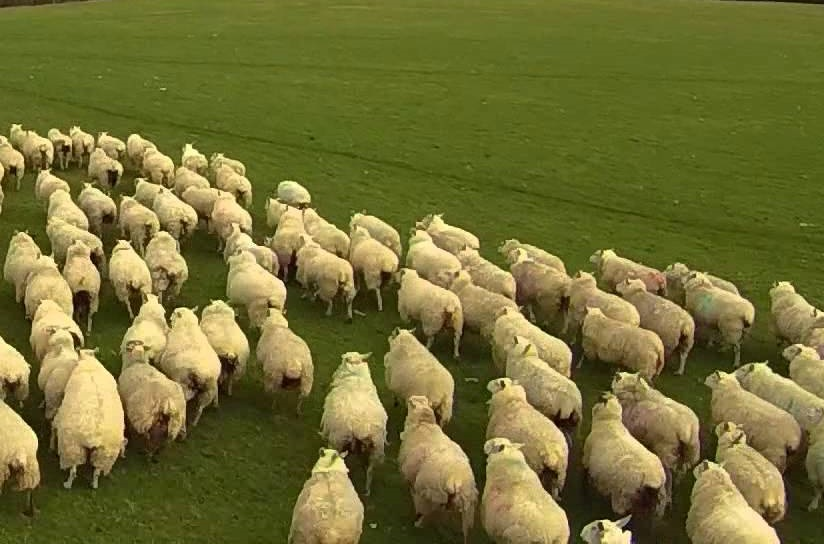sheep: (575, 388, 669, 512), (686, 370, 801, 468), (244, 310, 340, 426), (392, 391, 475, 522), (482, 376, 570, 492), (695, 419, 780, 538), (475, 439, 569, 544), (104, 347, 190, 444), (43, 361, 127, 453), (434, 273, 526, 352), (678, 467, 765, 544), (731, 354, 818, 429), (688, 268, 771, 345), (294, 446, 357, 544), (8, 126, 97, 190), (621, 274, 687, 359), (577, 308, 654, 380), (211, 318, 275, 404), (562, 268, 635, 342), (402, 222, 473, 298), (162, 307, 225, 392), (327, 208, 395, 279), (501, 247, 575, 308), (388, 269, 458, 333), (266, 190, 320, 257), (300, 241, 354, 307), (65, 231, 105, 320), (179, 179, 244, 230), (6, 213, 40, 300), (215, 253, 269, 307), (110, 244, 155, 304), (121, 130, 175, 180), (36, 189, 79, 241), (148, 237, 185, 293), (67, 182, 112, 226), (109, 195, 151, 242), (55, 126, 100, 165), (179, 136, 212, 181), (147, 193, 180, 231), (88, 127, 113, 156)
